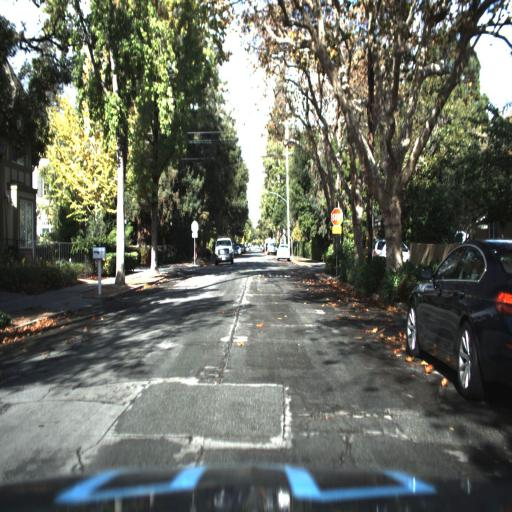car: (400, 234, 511, 408), (209, 236, 233, 269), (273, 241, 292, 263), (271, 241, 288, 263)
